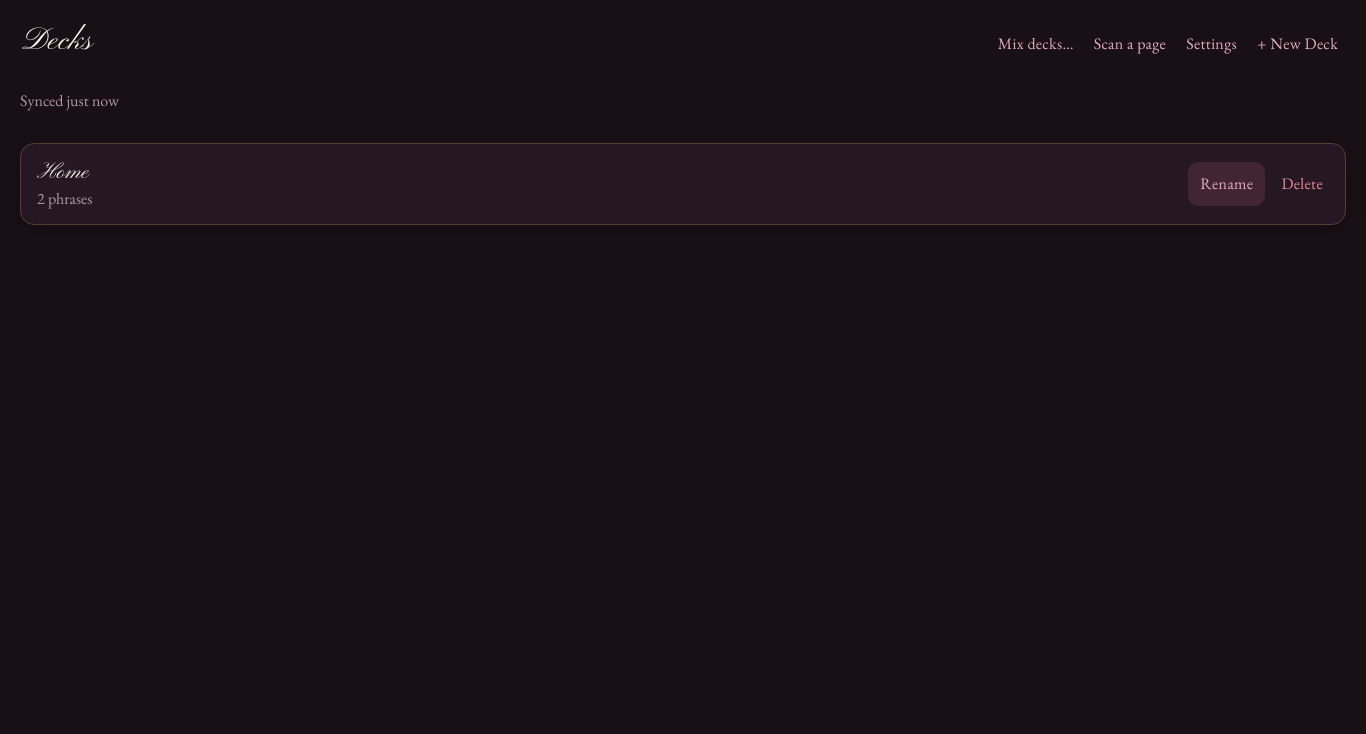
Test: App — existing audio › says on the row when a Phrase's audio could not be made
This screenshot has width=1366, height=734.
Click the button with test id "deck-row-d1".
click(63, 172)  # box [21,144,1178,224]
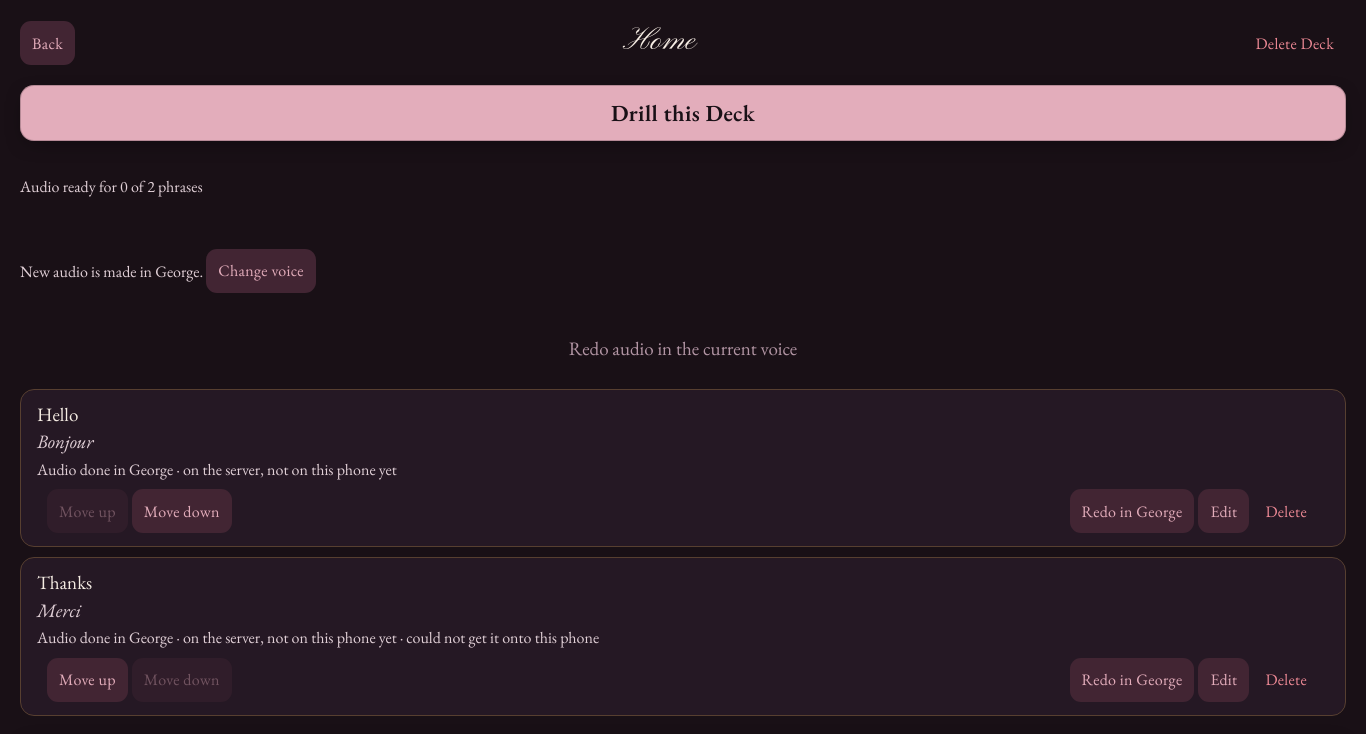
Result: the text with test id "phrase-audio-p2" shows "Audio done in George · on the server, not on this phone yet · could not get it onto this phone" at [37,628,599,648]
